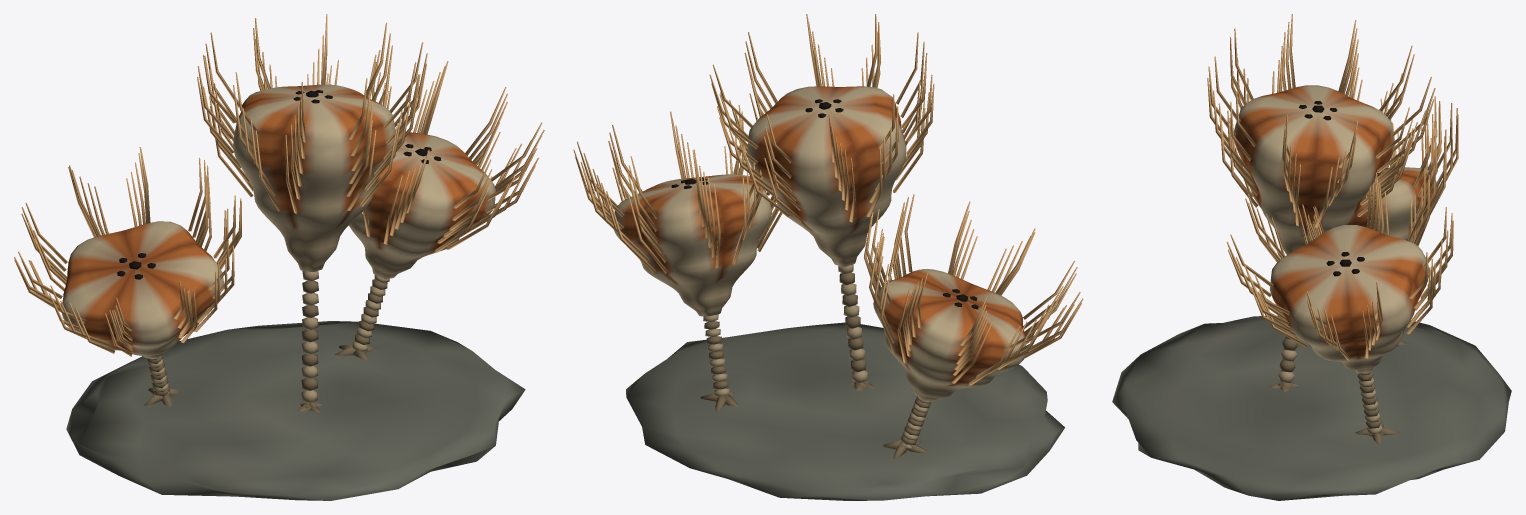
File: Pentremites.fbx
The picture shows the model from 3 angles, left to right: view 1: azimuth 30°, elevation 25°; view 2: azimuth 150°, elevation 25°; view 3: azimuth 270°, elevation 25°; orthographic projection. The views are drawn at different scales.
Visible parts, largest first — view 1: Pentremites; view 2: Pentremites; view 3: Pentremites.
Boxes of the visible parts, left/top/right/bottom form: Pentremites: left=14, top=14, right=544, bottom=500; Pentremites: left=573, top=14, right=1083, bottom=500; Pentremites: left=1112, top=14, right=1511, bottom=500.
Bounding box in the file's own units: 1.56 × 1.17 × 1.13.
